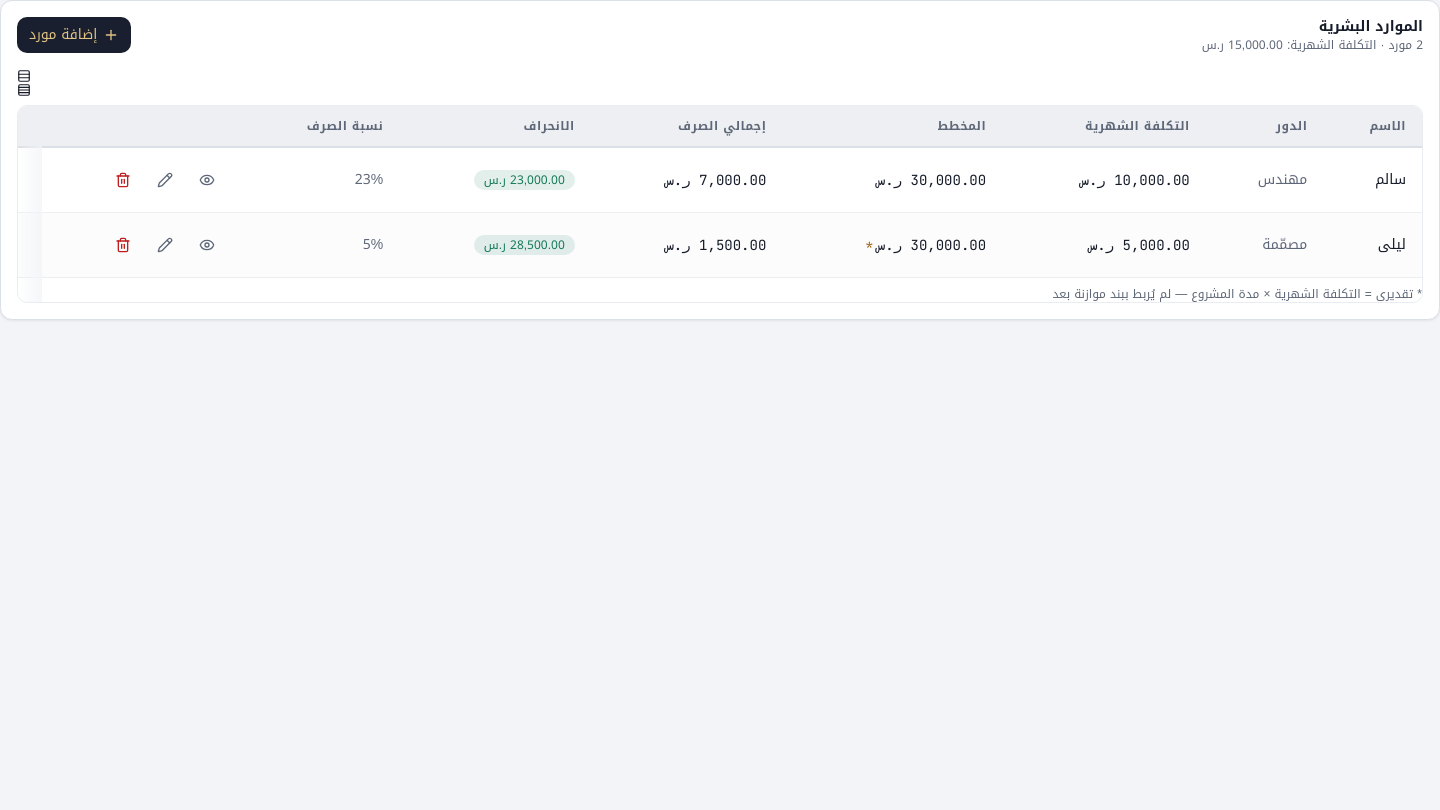
Test: row actions and the inspector › opens the inspector with the counted spend and the linked expenses
The width and height of the screenshot is (1440, 810).
What coordinates should you click on to do the following:
click the button titled "عرض التفاصيل" in the row of "سالم"
I would click on:
 (207, 180)
Its box is [187,160,227,200].
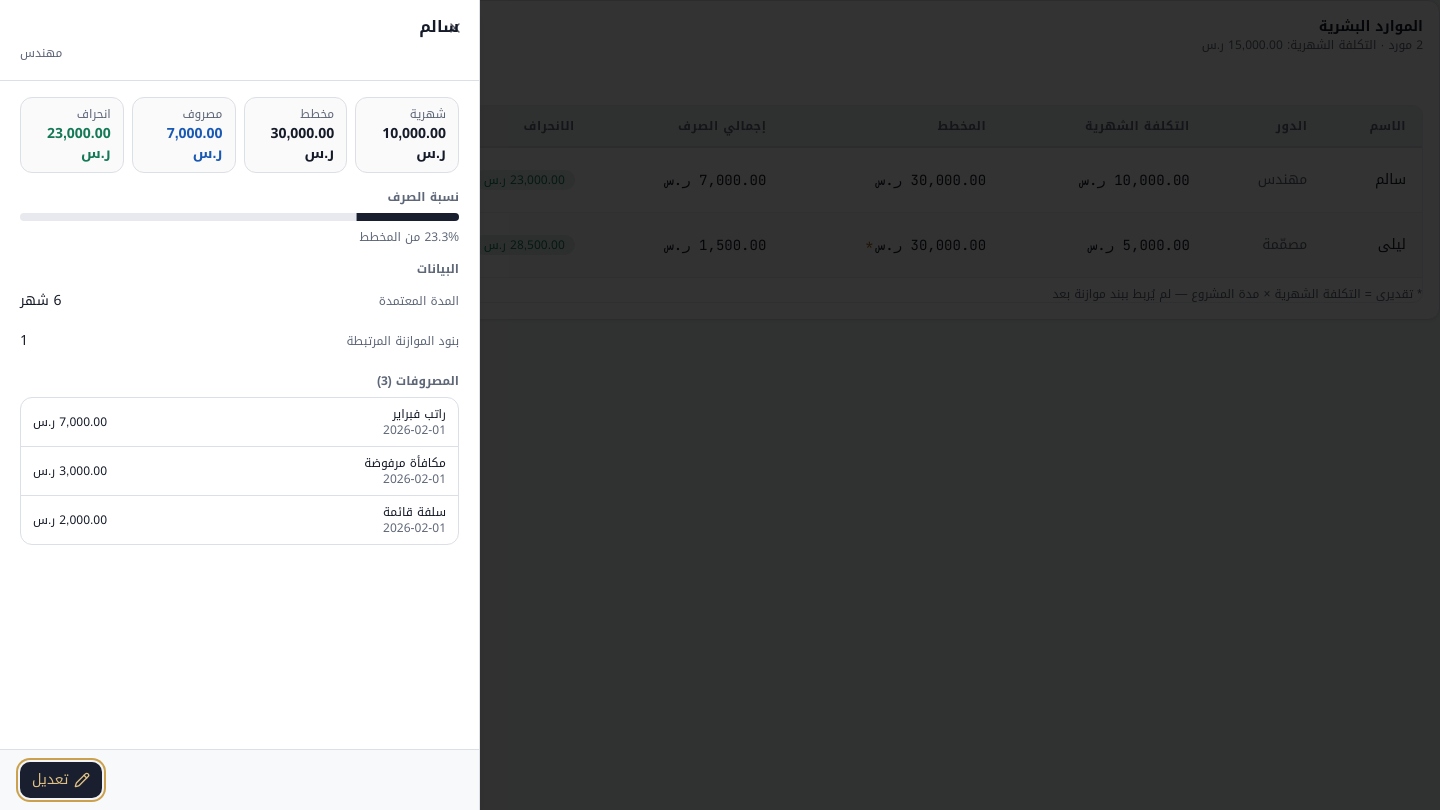
Check: the 1st text "7,000.00 ر.س" is shown, box [167,120,222,166]
Check: the text "راتب فبراير" is shown, box [392,402,446,424]
Check: the text "1" is shown, box [20,330,28,350]
